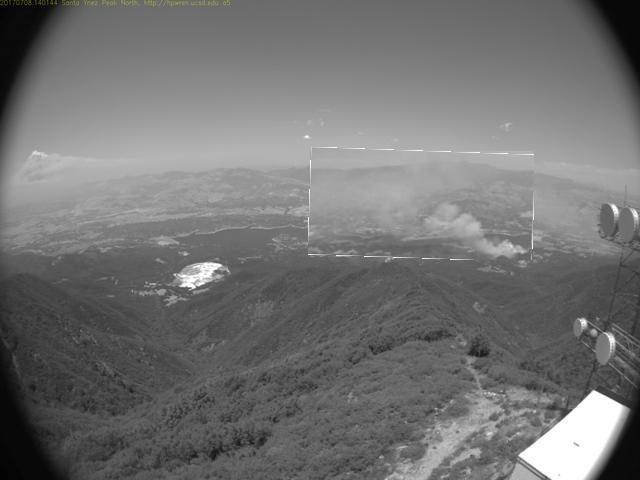smoke: (310, 150, 536, 261)
